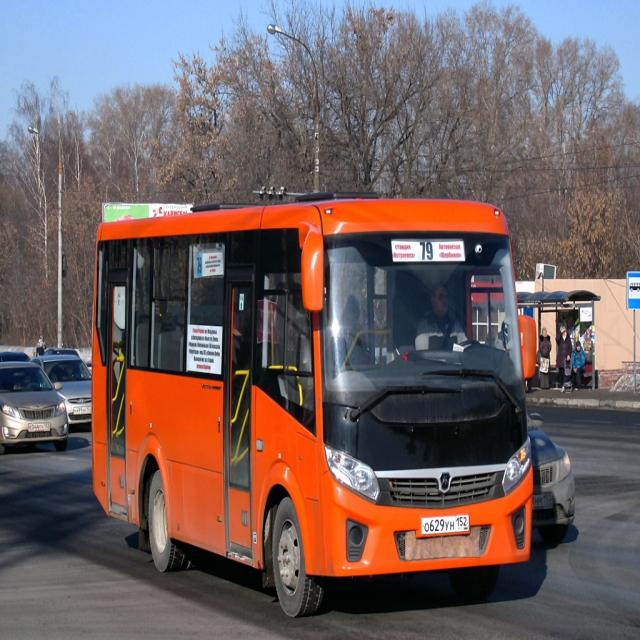number-of-bus: (420, 242, 435, 262)
